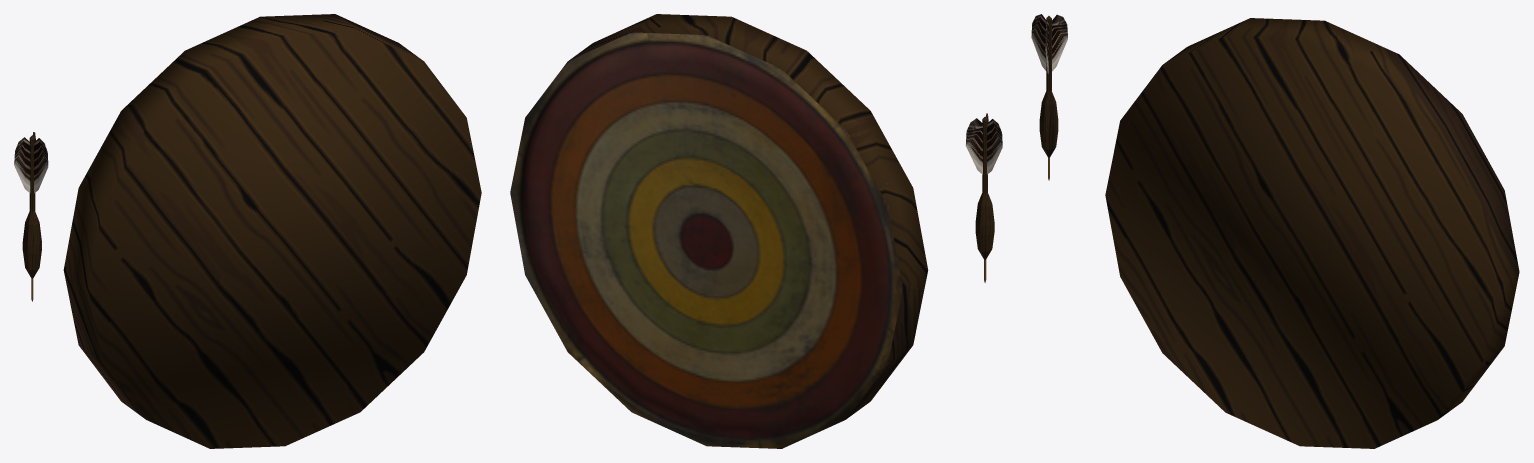
Rendered from DartBoard.fbx.
3 views of the same model, side by side, from view 1: azimuth 30°, elevation 25°; view 2: azimuth 150°, elevation 25°; view 3: azimuth 330°, elevation 25° (orthographic).
Visible parts, largest first — view 1: Board, Darts; view 2: Board, Darts; view 3: Board, Darts.
Part boxes in pixels (x1,y1,x2,y2): Board: (63, 14, 481, 448); Darts: (14, 132, 48, 301); Board: (510, 14, 928, 448); Darts: (965, 113, 1002, 282); Board: (1105, 18, 1519, 448); Darts: (1031, 14, 1067, 180).
Bounding box in the file's own units: 47.03 × 39.55 × 6.1.
Materials: 1 (1 with a texture image).
